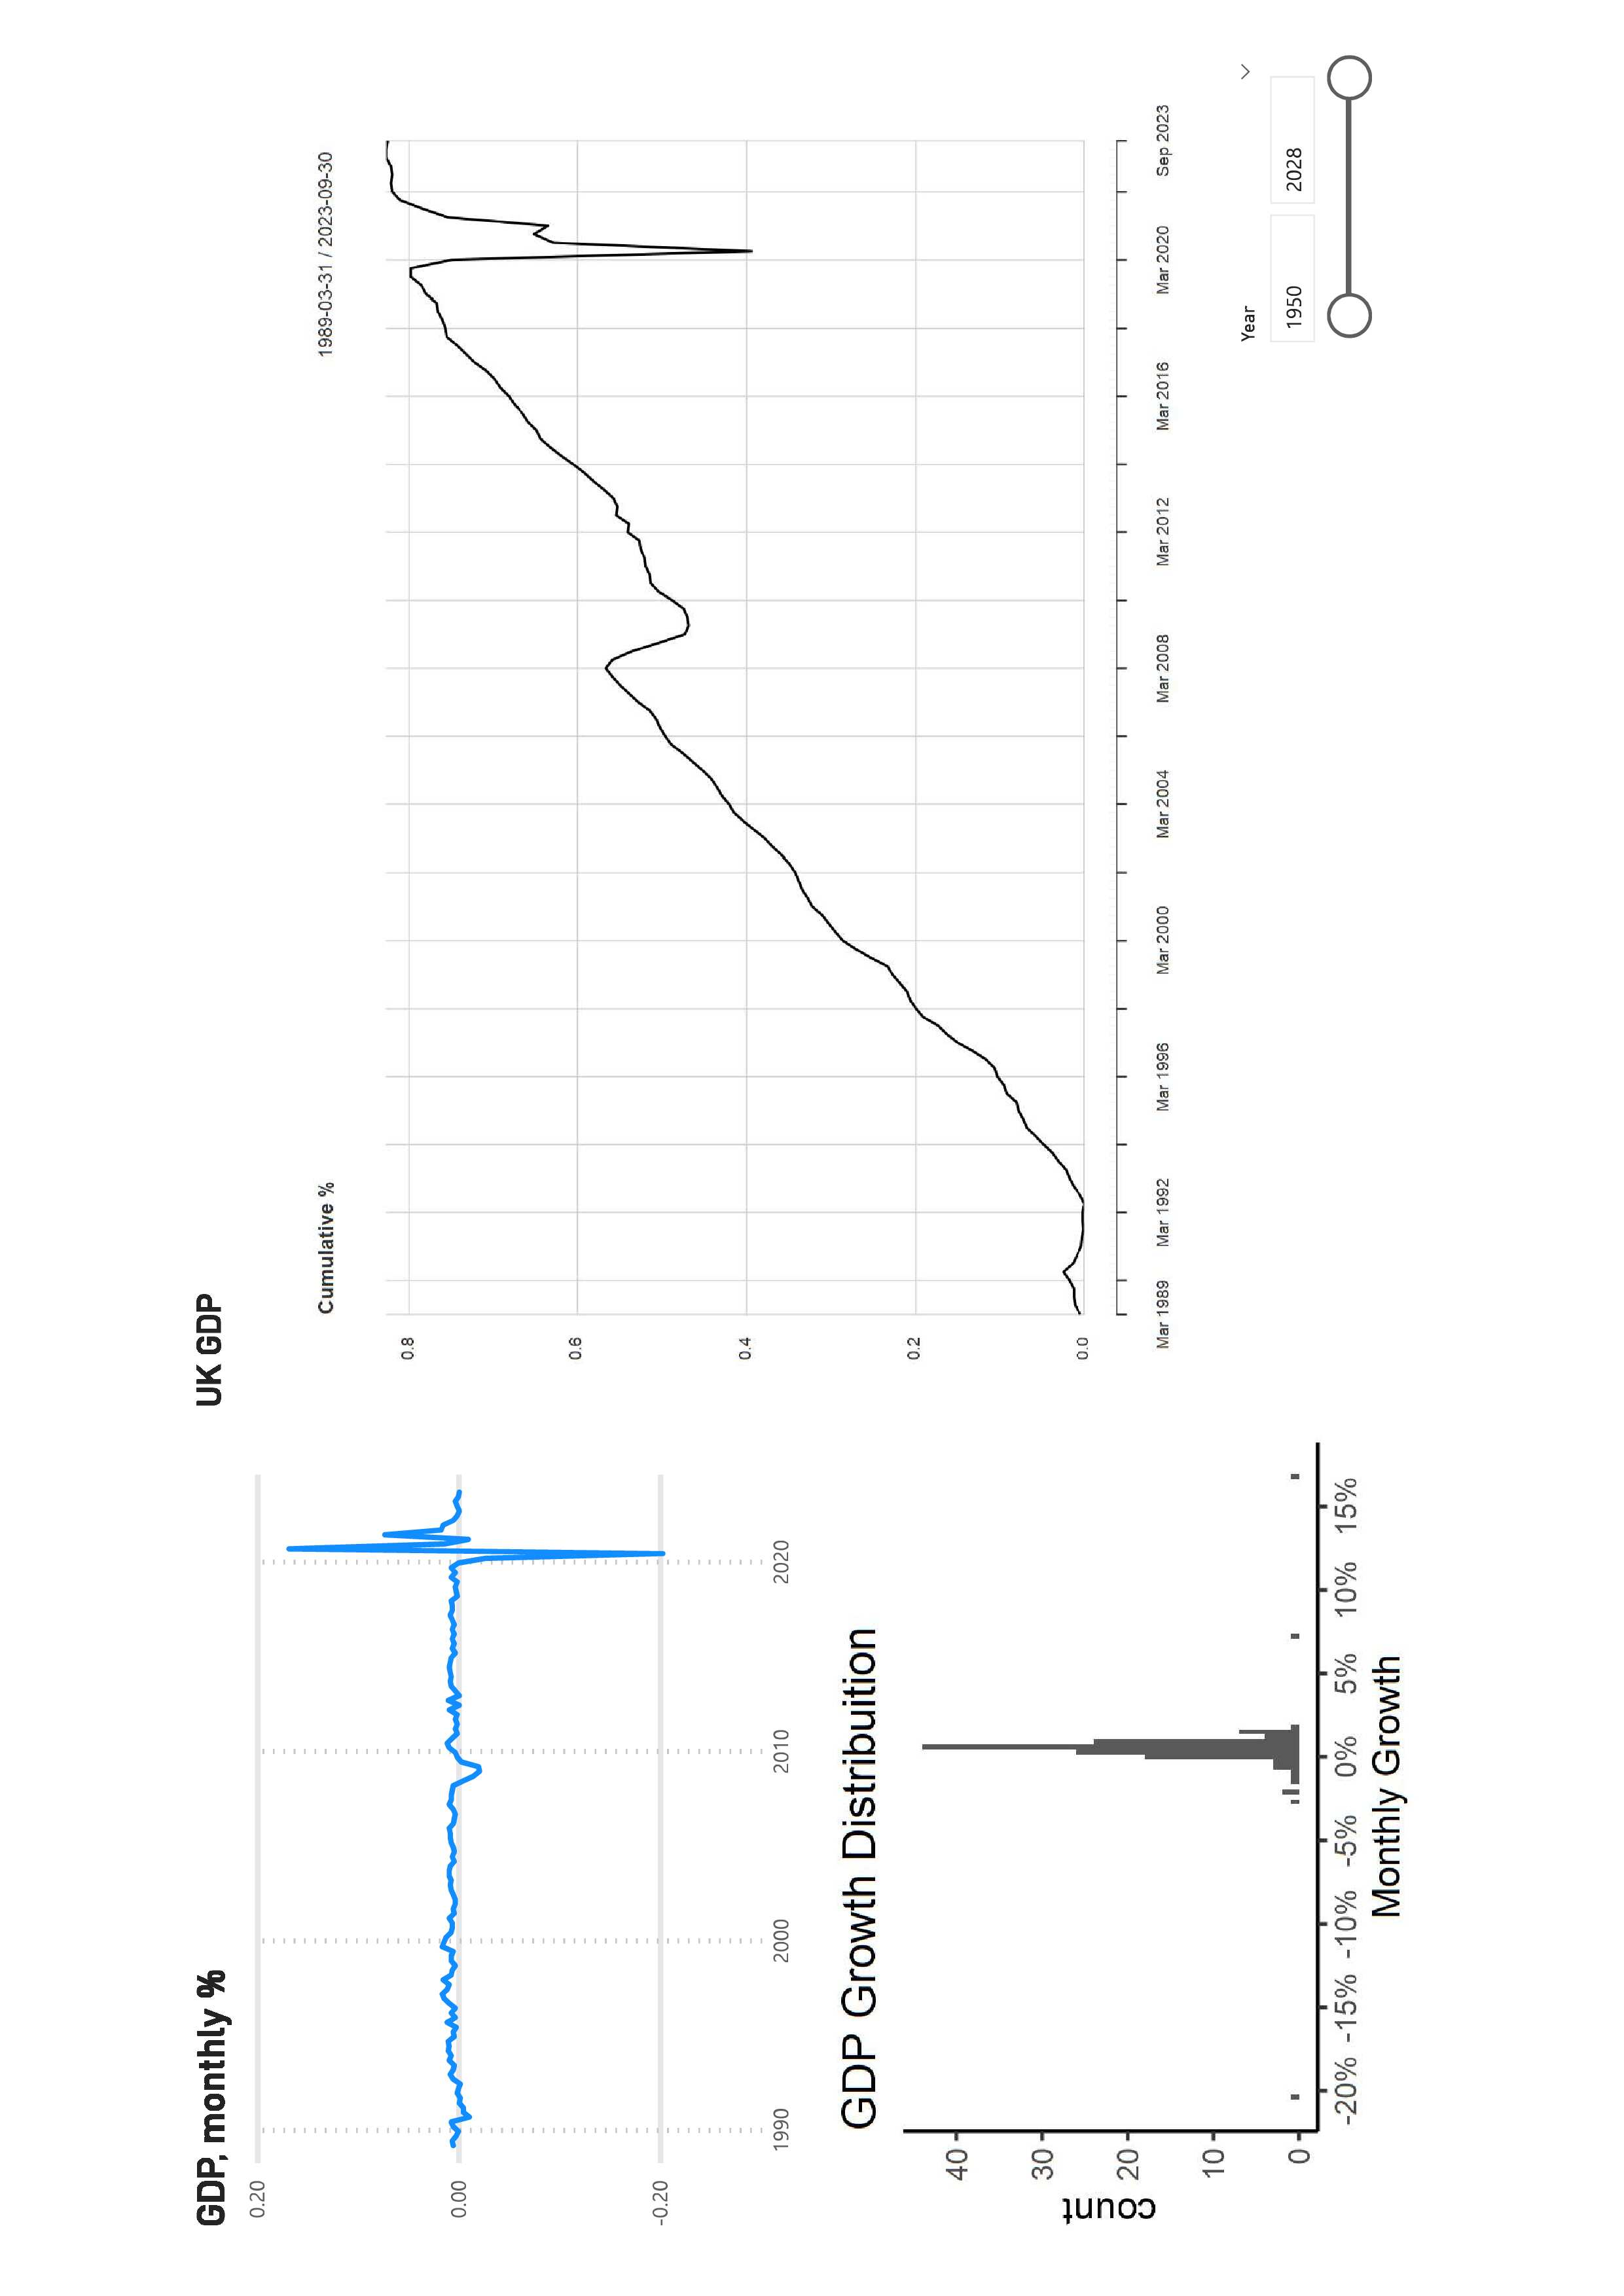

The page's visual inventory and layout, read from the dashboard file:
{"tool":"powerbi","page":{"name":"GDP","canvas":[1280,720],"ordinal":0},"visuals":[{"type":"lineChart","title":"GDP, monthly %","fields":{"Y":["Avg(MacroEconomics.Inflation)"],"Category":["Calendar.Date"]},"box":[10.6,0,448.2,360.4],"z":0},{"type":"scriptVisual","title":"UK GDP","fields":{"Values":["MacroEconomics.Date","MacroEconomics.GDP","Sum(MacroEconomics.Inflation)"]},"box":[485.2,0,795,581.4],"z":1000},{"type":"slicer","fields":{"Values":["Calendar.Year"]},"box":[1092.6,600.7,187,118],"z":2000},{"type":"scriptVisual","title":"GDP","fields":{"Values":["MacroEconomics.Date","MacroEconomics.GDP","Sum(MacroEconomics.Inflation)"]},"box":[0,360.7,485.2,359.3],"z":3000}]}

Visuals, with their boxes on the page's 1280x720 design canvas (x1, y1, x2, y2). These are canvas units, not pixel positions in the 1624x2296 screenshot, which may show the page scaled, cropped or inside an application window:
"GDP, monthly %" lineChart: (11,0,459,360)
"UK GDP" scriptVisual: (485,0,1280,581)
slicer - Calendar.Year: (1093,601,1280,719)
"GDP" scriptVisual: (0,361,485,720)
